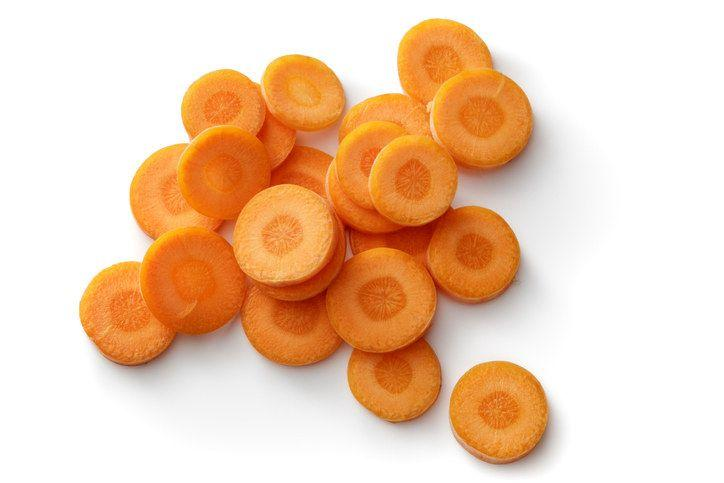buah_sayur_vitA: (450, 78, 520, 156), (164, 240, 225, 327), (355, 260, 416, 345), (470, 373, 534, 451), (251, 194, 315, 271), (444, 223, 509, 289), (393, 148, 440, 218), (269, 297, 316, 363), (101, 274, 145, 343), (419, 27, 472, 80), (199, 142, 248, 197), (370, 362, 428, 408), (200, 79, 251, 131), (285, 57, 317, 121), (145, 165, 184, 217)
